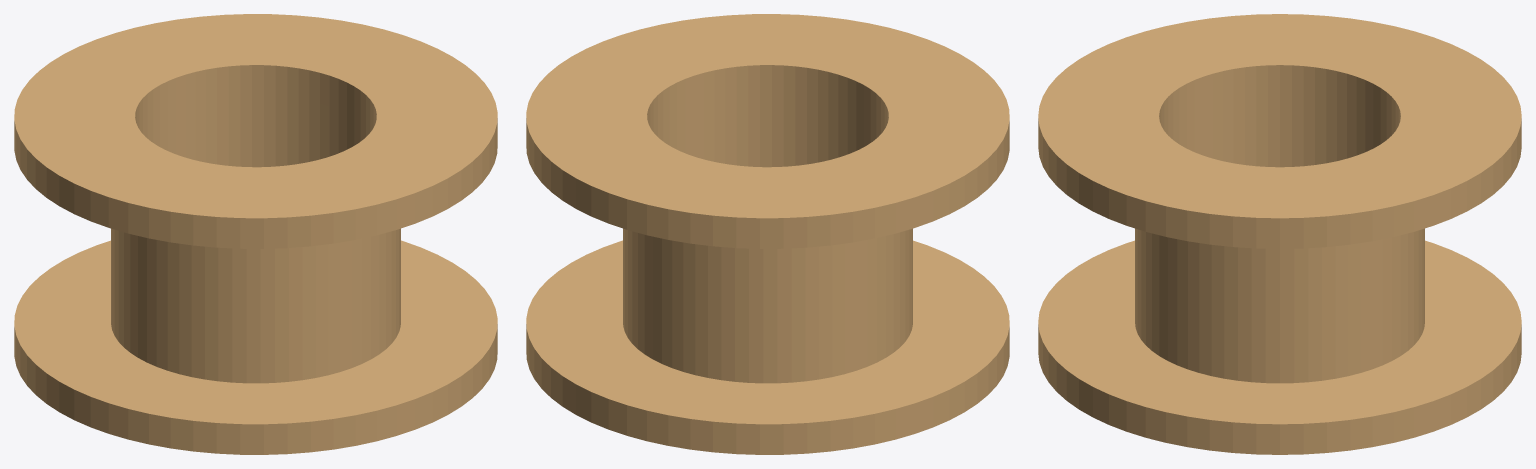
Rendered from board.glb.
3 views of the same model, side by side, from view 1: azimuth 30°, elevation 25°; view 2: azimuth 150°, elevation 25°; view 3: azimuth 270°, elevation 25° (orthographic).
Visible parts, largest first — view 1: Unified_Net_1_Island_0 (×2), Bare_Via_Tube_0; view 2: Unified_Net_1_Island_0 (×2), Bare_Via_Tube_0; view 3: Unified_Net_1_Island_0 (×2), Bare_Via_Tube_0.
Part boxes in pixels (x1,y1,x2,y2): Unified_Net_1_Island_0 (×2): [14, 14, 497, 454]; Bare_Via_Tube_0: [111, 72, 400, 383]; Unified_Net_1_Island_0 (×2): [526, 14, 1009, 454]; Bare_Via_Tube_0: [623, 72, 912, 383]; Unified_Net_1_Island_0 (×2): [1038, 14, 1521, 454]; Bare_Via_Tube_0: [1135, 65, 1424, 383].
Bounding box in the file's own units: 0.0005 × 0.00027 × 0.0005.
